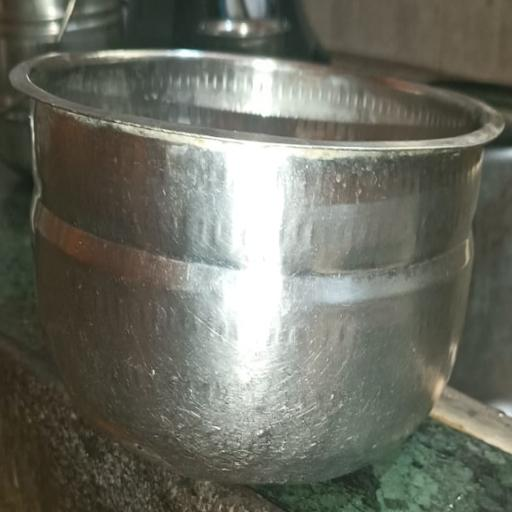vessel: (10, 50, 502, 482), (10, 50, 502, 481)
